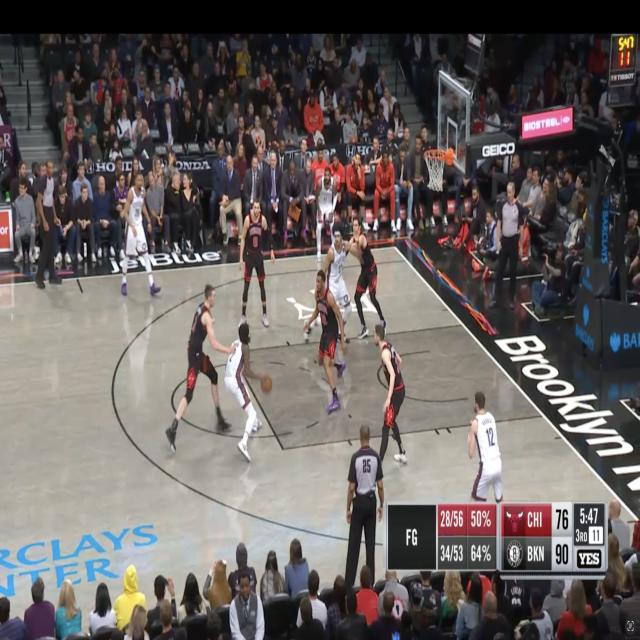no foul: (164, 258, 270, 468), (317, 202, 405, 337)
